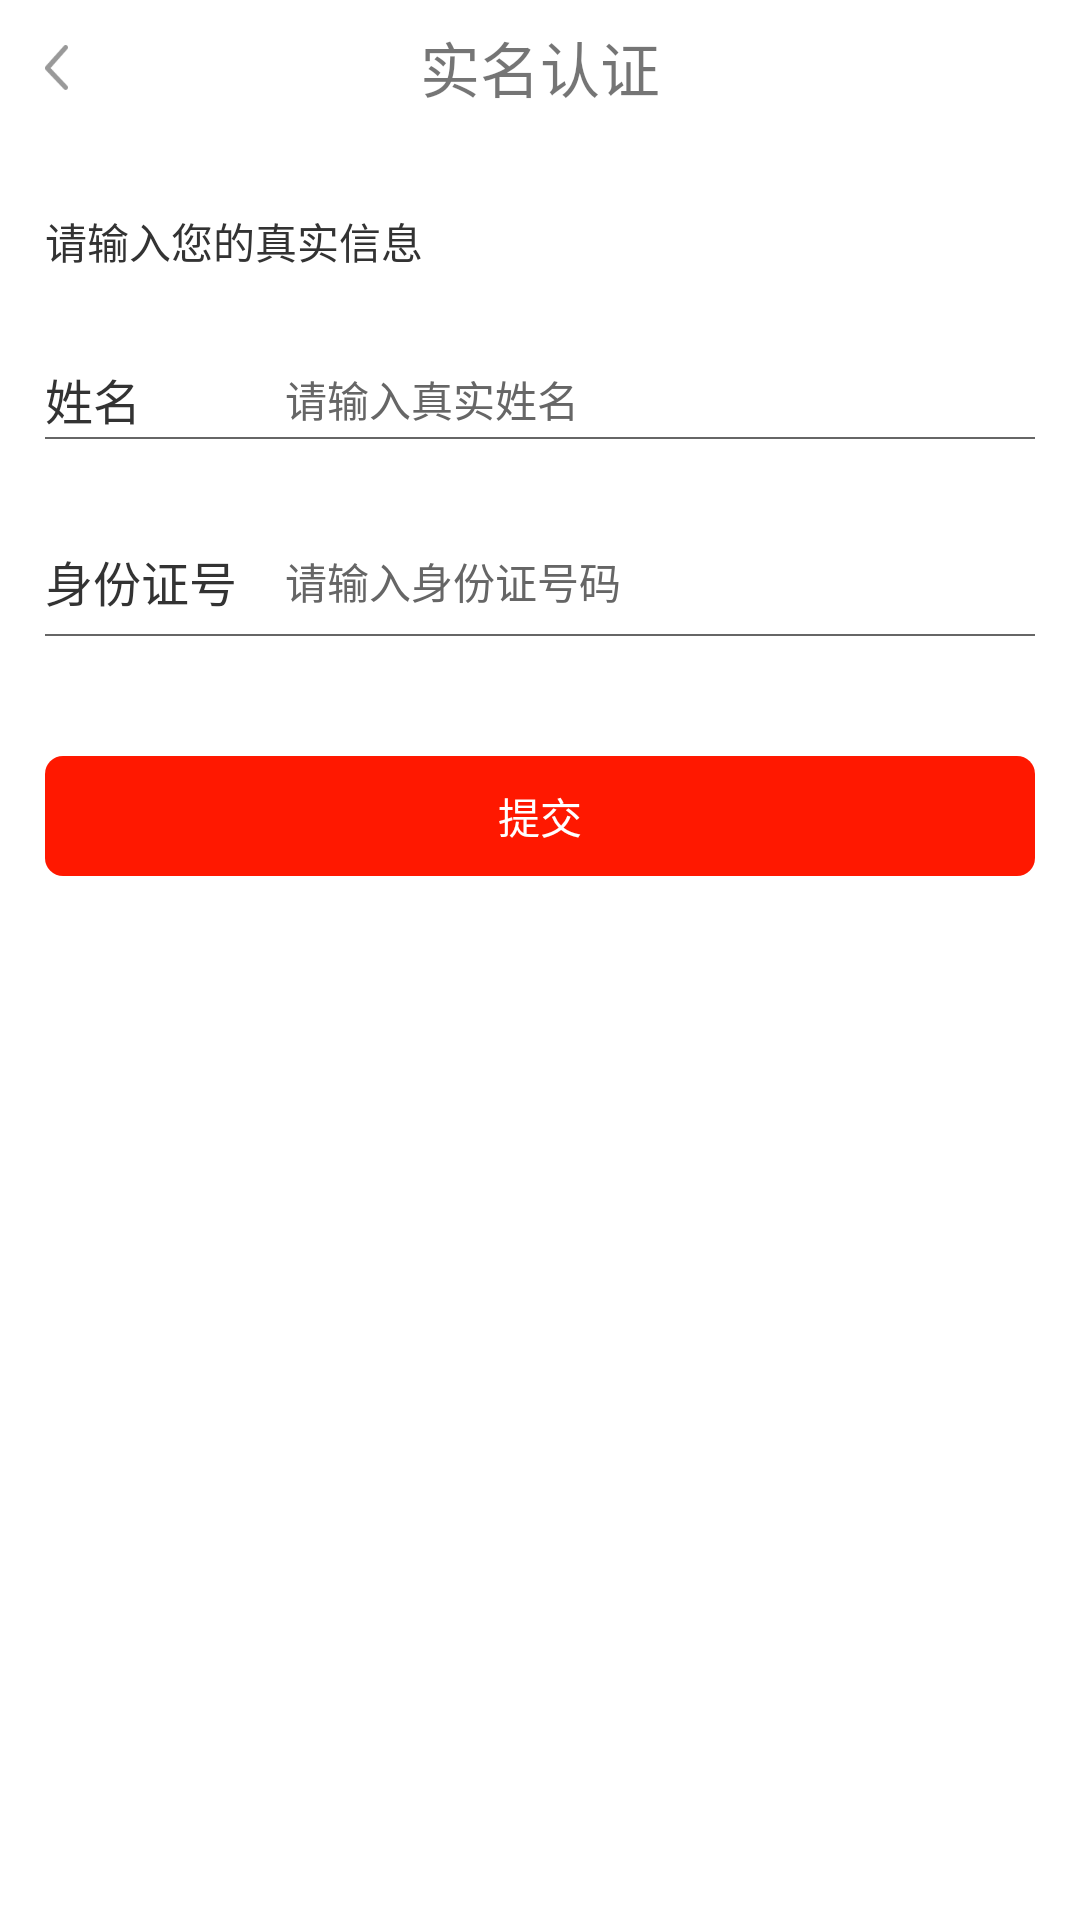

Screen size 1080×1920. Icon name, then its center in pixels as [x,y]:
back: [56,67]
